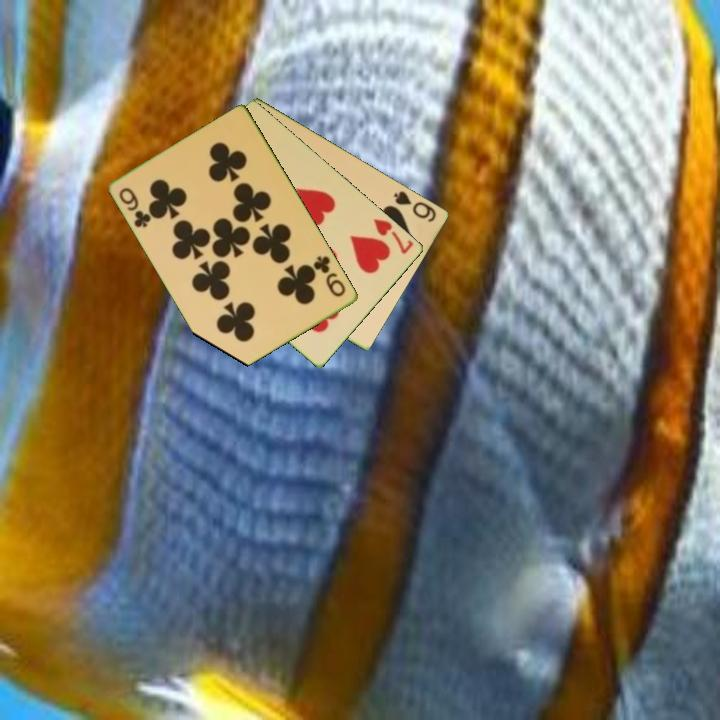6s: (391, 187, 440, 225)
7h: (370, 215, 417, 257)
9c: (310, 252, 349, 300), (116, 184, 155, 231)
